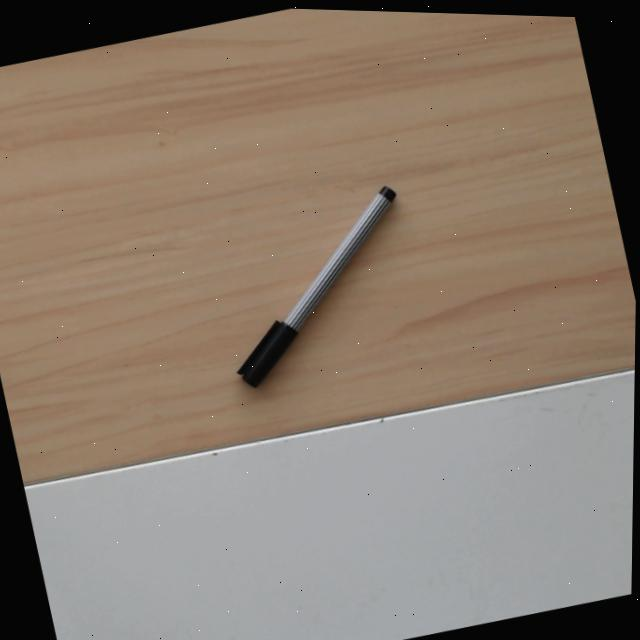Pulpen-Garis-Hitam: (233, 178, 402, 389)
